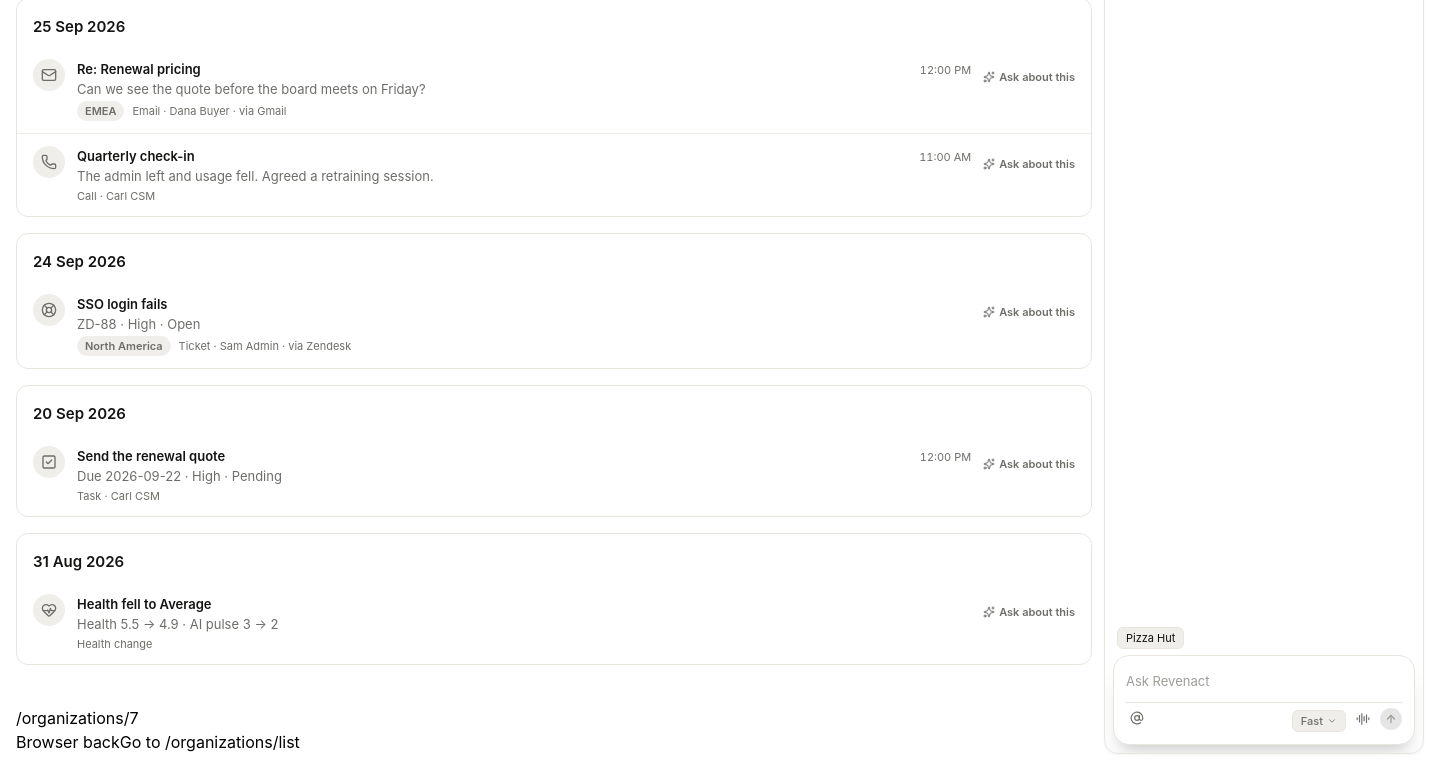
Test: the Organizations scroll column across routes › starts the List at the top when leaving an organisation for it
This screenshot has width=1440, height=770.
(page scrolled)
Click the link "Go to /organizations/list" at (142, 742), box top-left (120, 732), bottom-right (300, 752)
(page scrolled)
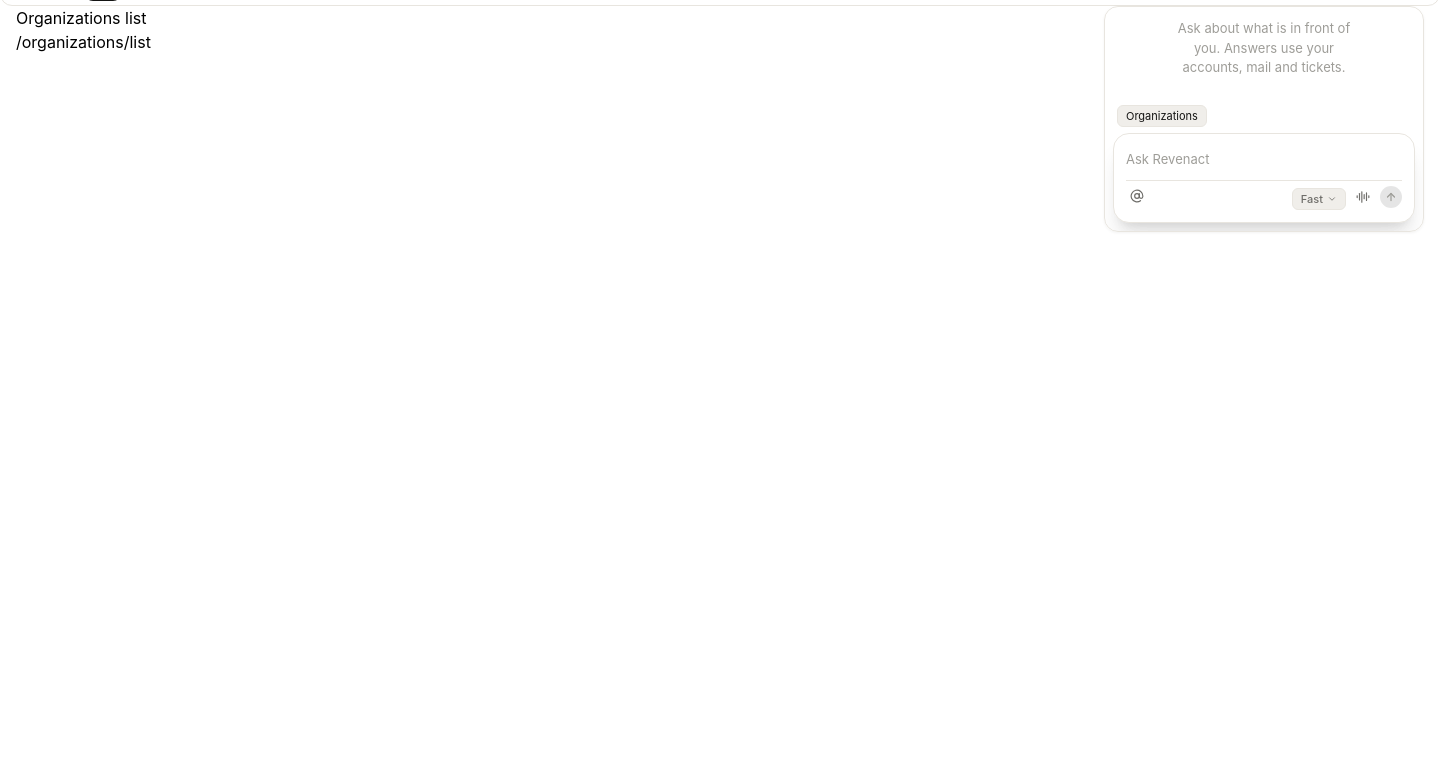
Check: the text with test id "where" reads "/organizations/list", box top-left (16, 32), bottom-right (151, 52)
